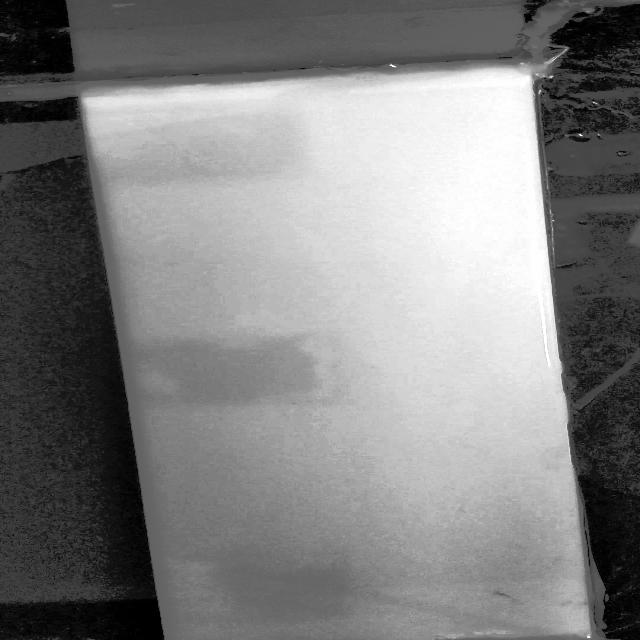shrimp: (488, 587, 517, 601)
